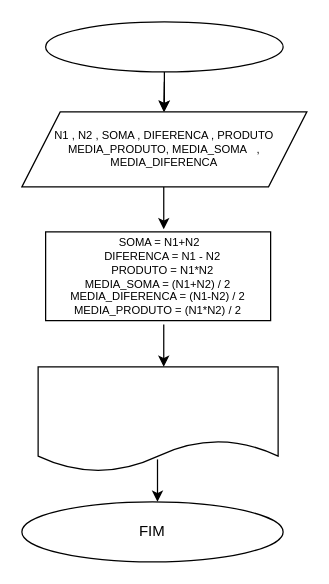
Image size: 329x584. Some labels were removed from this diagram. The shapes that lost their labels are listed below. From the top down, each one's centre as x and y in pixels, then its label:
At (163,46): "INICIO".
At (157,419): "SOMA DIFERENCA PRODUTO MEDIA_SOMA MEDIA_DIFERENCA MEDIA_PRODUTO".
